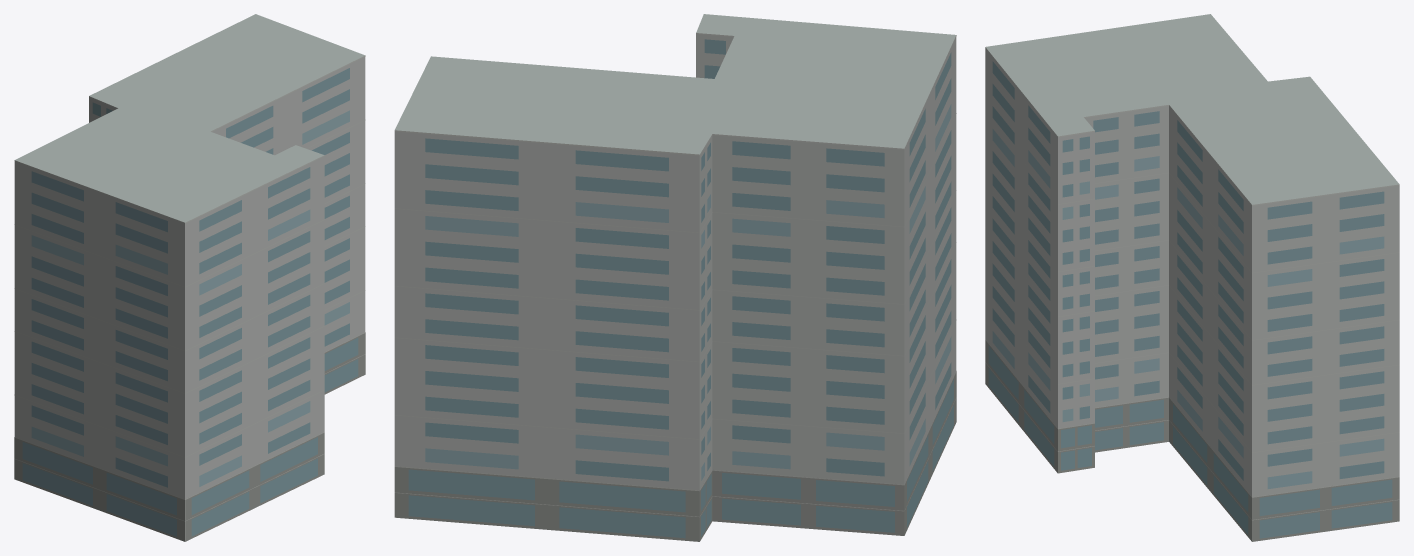
The model's file is survey-upis-32762262.glb.
The picture shows the model from 3 angles, left to right: view 1: azimuth 30°, elevation 25°; view 2: azimuth 150°, elevation 25°; view 3: azimuth 270°, elevation 25°; orthographic projection. The views are drawn at different scales.
Parts seen in each view (by area): view 1: survey-upis-32762262.tmp; view 2: survey-upis-32762262.tmp; view 3: survey-upis-32762262.tmp.
Boxes of the visible parts, x1,y1,x2,y2 form: survey-upis-32762262.tmp: (14,14,365,541); survey-upis-32762262.tmp: (394,14,956,541); survey-upis-32762262.tmp: (985,14,1399,541).
Bounding box in the file's own units: 86.64 × 71.3 × 79.47.
